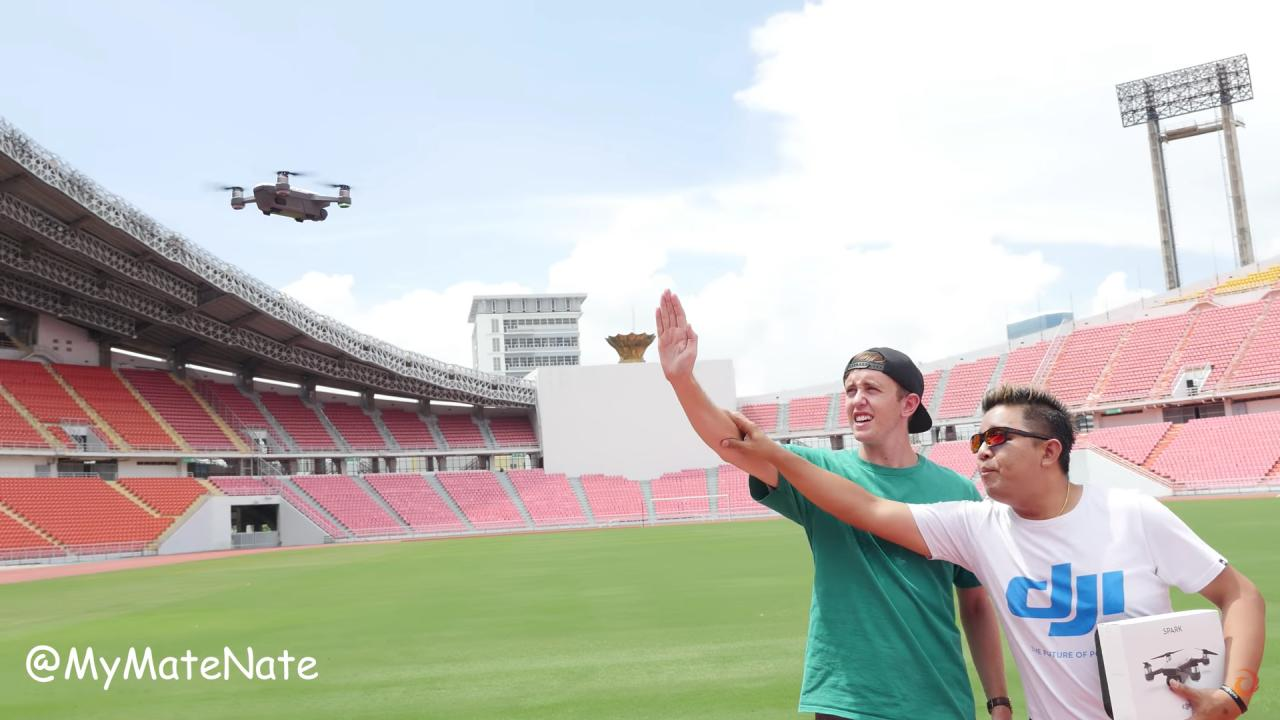Drone: (203, 158, 369, 234)
